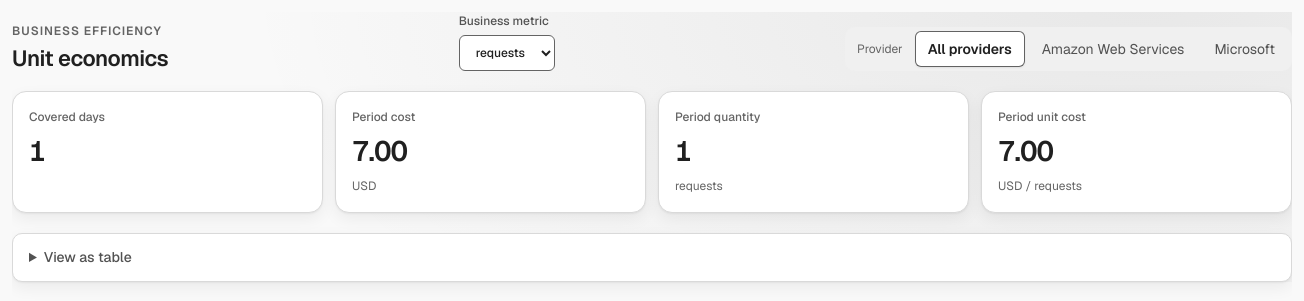
Test case: UnitEconomics › snaps a dropped provider selection to All without committing the stale body
Step 1. Click the button "Amazon Web Services" → (1113, 49), box [1029, 31, 1197, 67]
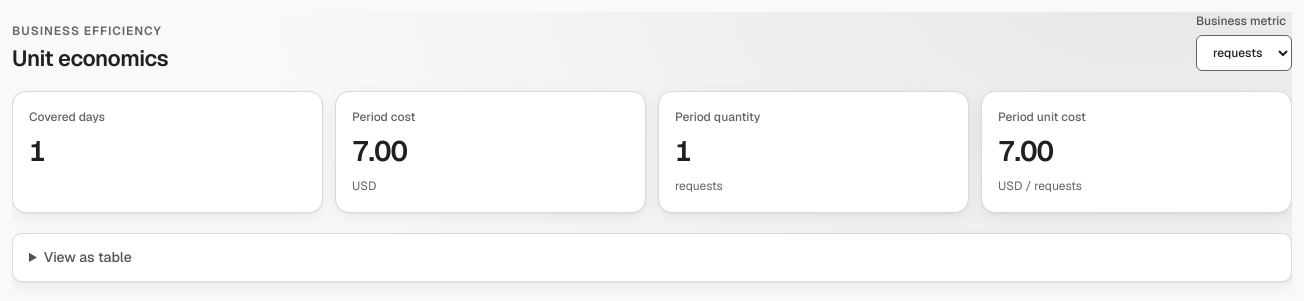
Result: the text "Provider" is gone
